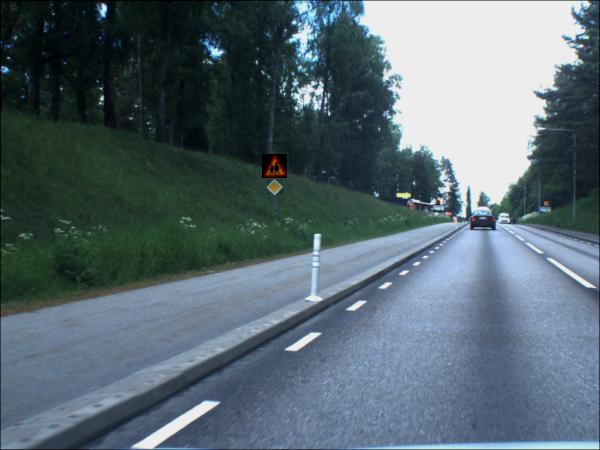50_SIGN: (435, 201, 441, 207), (544, 202, 550, 208)
PRIORITY_ROAD: (267, 180, 284, 197)
WARNING: (262, 155, 288, 180)
